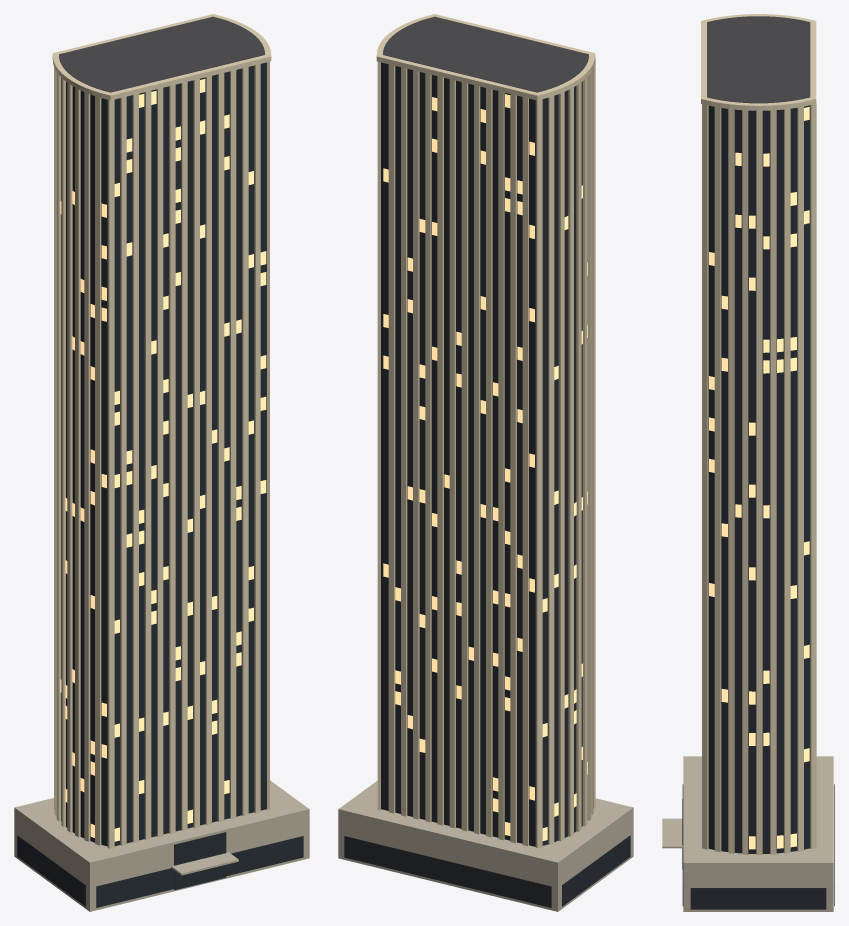
Rendered from t_strip_cream_36.glb.
The picture shows the model from 3 angles, left to right: view 1: azimuth 30°, elevation 25°; view 2: azimuth 150°, elevation 25°; view 3: azimuth 270°, elevation 25°; orthographic projection.
Parts seen in each view (by area): view 1: t_strip_cream_36; view 2: t_strip_cream_36; view 3: t_strip_cream_36.
Boxes of the visible parts, left/top/right/bottom form: t_strip_cream_36: left=14, top=14, right=309, bottom=911; t_strip_cream_36: left=338, top=14, right=633, bottom=911; t_strip_cream_36: left=662, top=14, right=834, bottom=911.
Size of the model in its own units: 42.28 by 147 by 28.64.
